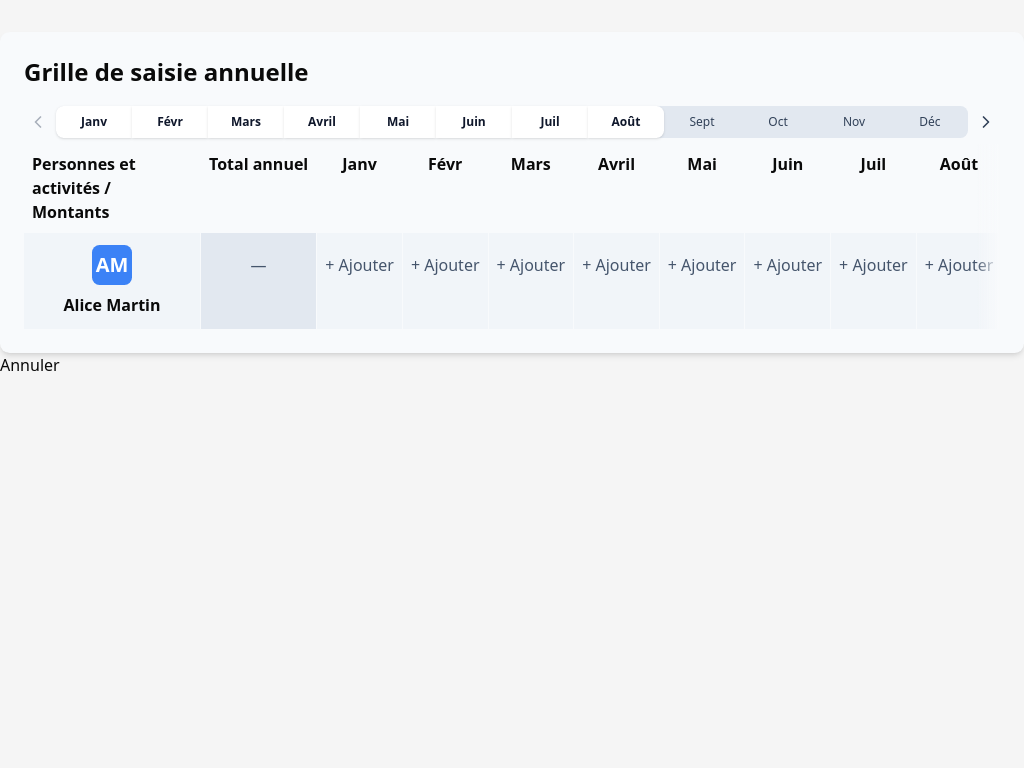
Test case: MonthlyGrid, sur plusieurs années › désactive « Années précédentes » depuis la plus ancienne année
The width and height of the screenshot is (1024, 768).
Click the button with aria-label "Flux de mars : Alice Martin".
click(531, 281)  # box [488, 233, 573, 329]
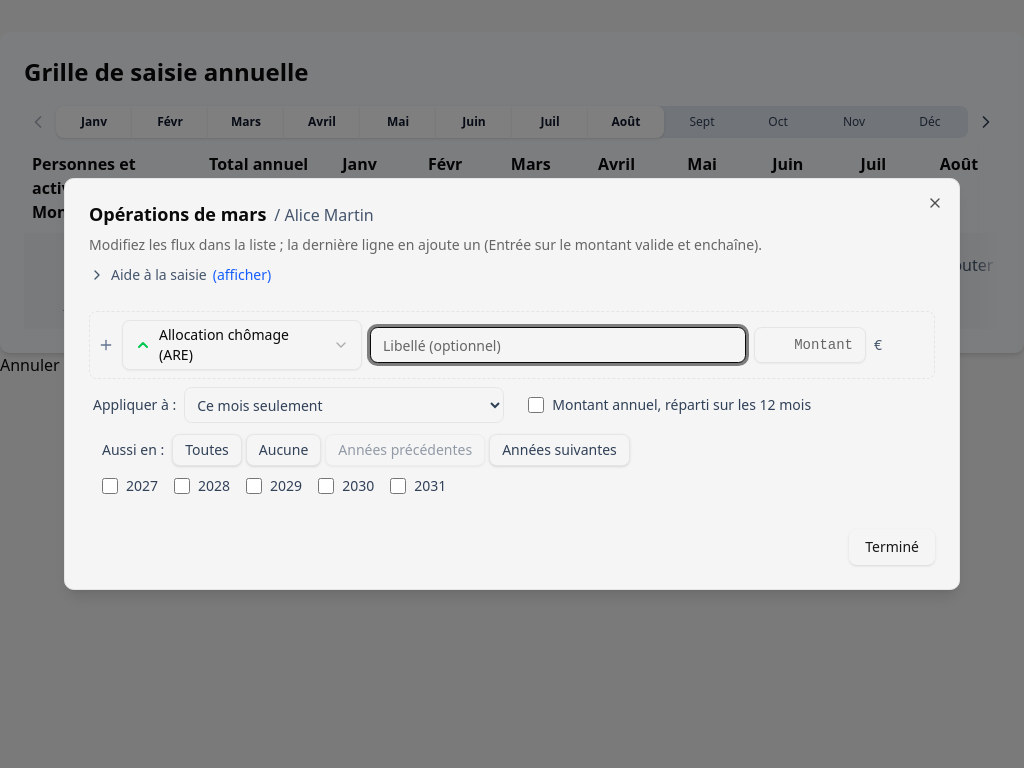
Expected: the button with aria-label "Cocher les années précédentes" is disabled, [325, 434, 485, 466]
Expected: the button with aria-label "Cocher les années suivantes" is enabled, [489, 434, 630, 466]
